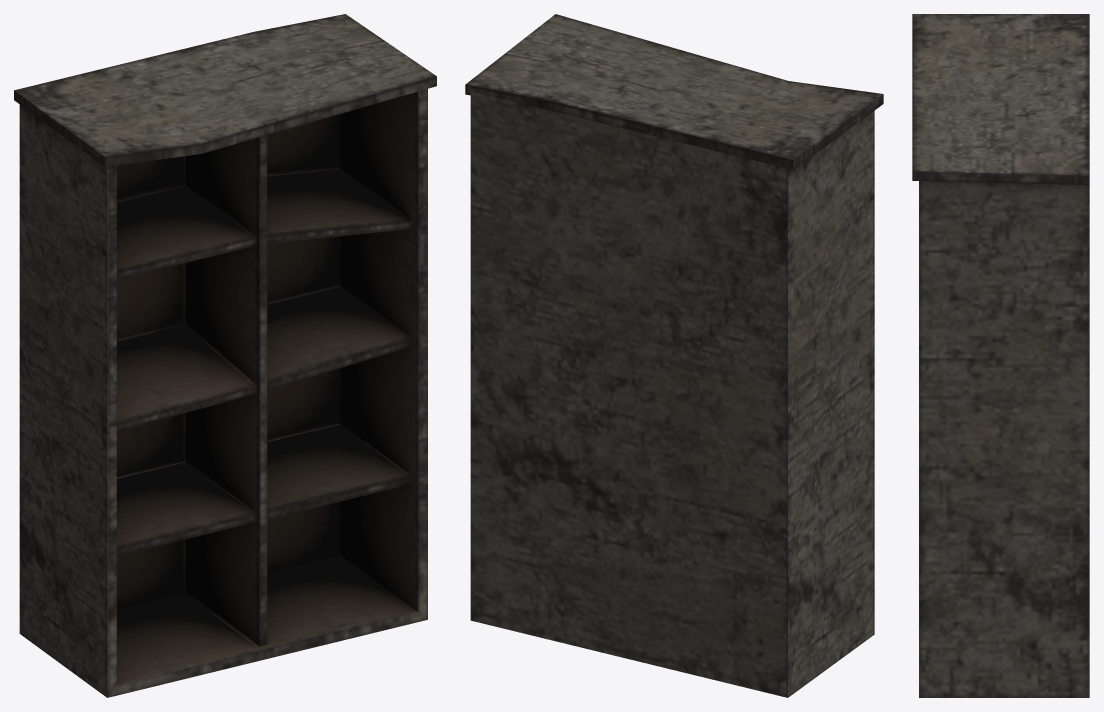
Rendered from OpenCab_02.FBX.
3 views of the same model, side by side, from view 1: azimuth 30°, elevation 25°; view 2: azimuth 150°, elevation 25°; view 3: azimuth 270°, elevation 25° (orthographic). The views are drawn at different scales.
Parts seen in each view (by area): view 1: OpenCab_02; view 2: OpenCab_02; view 3: OpenCab_02.
Part boxes in pixels (x1,y1,x2,y2): OpenCab_02: (14,14,436,697); OpenCab_02: (465,14,883,697); OpenCab_02: (912,14,1089,697).
Bounding box in the file's own units: 130 × 205 × 62.15.
